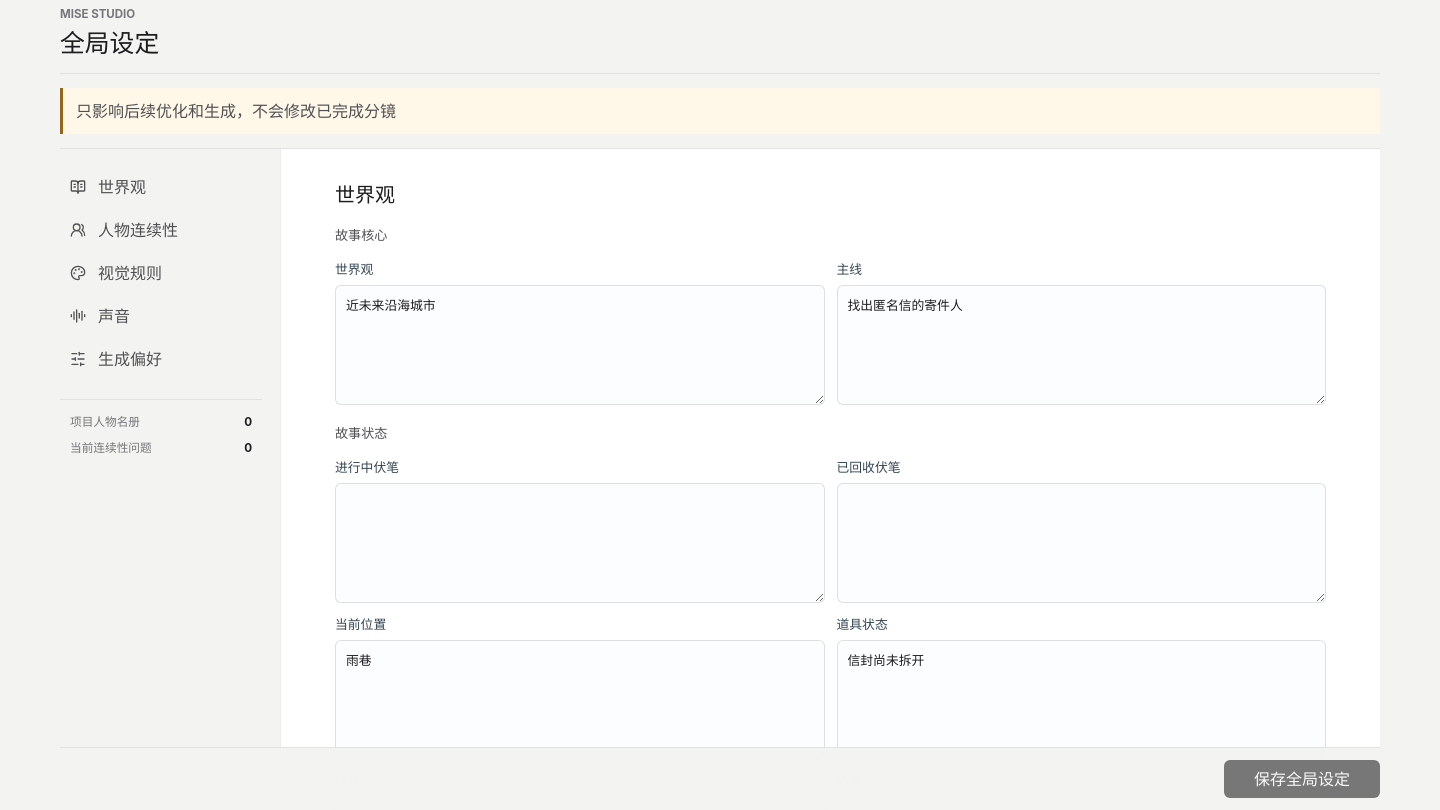
Test case: GlobalSettingsPage › saves only a dirty draft and resets the dirty baseline after success
Expected: the button "保存全局设定" is disabled, [1224,760,1380,798]
Replace the text in the text box labelled "主线" with "新的故事主线" at (1081, 345), box [836,285,1326,405]
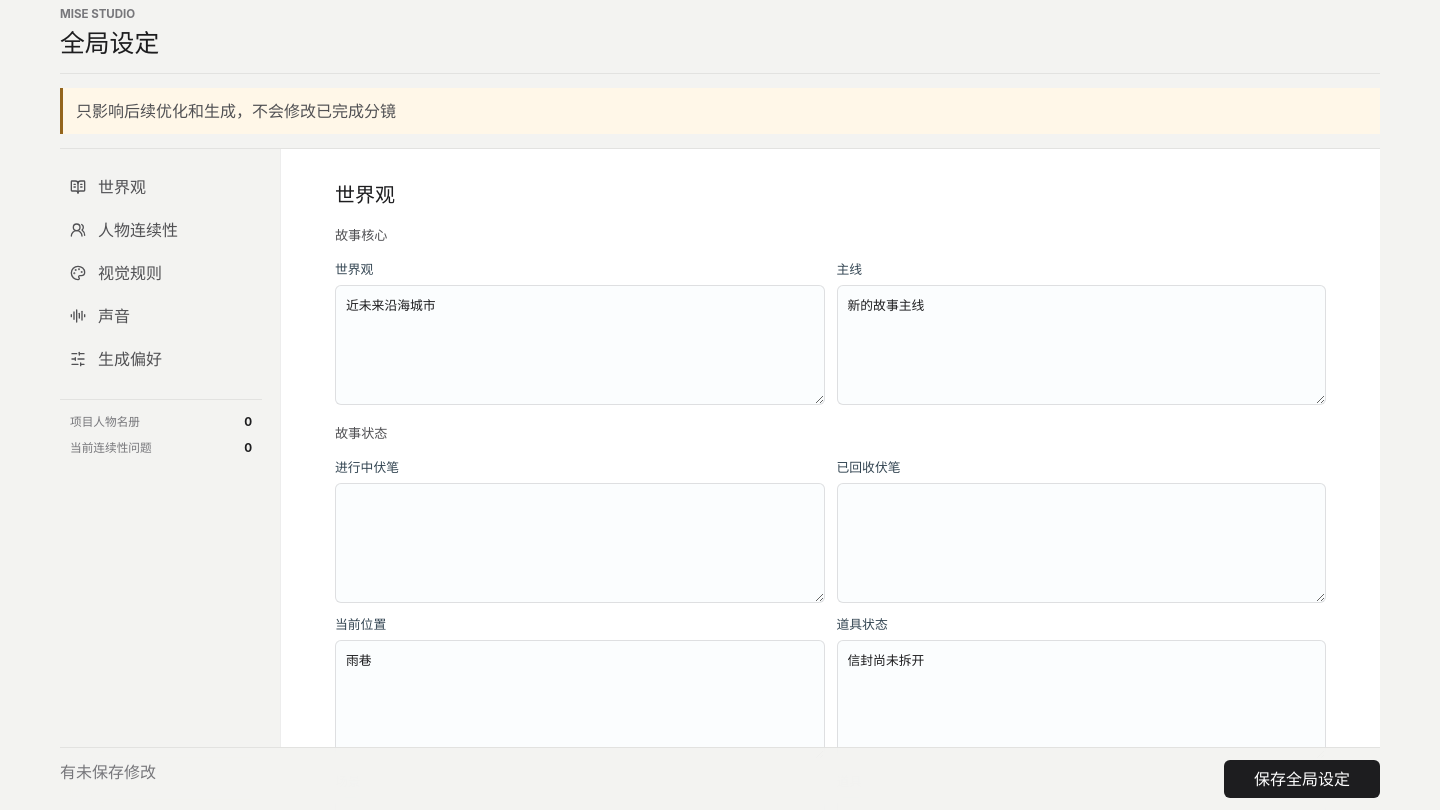
Now the button "保存全局设定" is enabled
Click the button "保存全局设定" at (1302, 779), box [1224,760,1380,798]
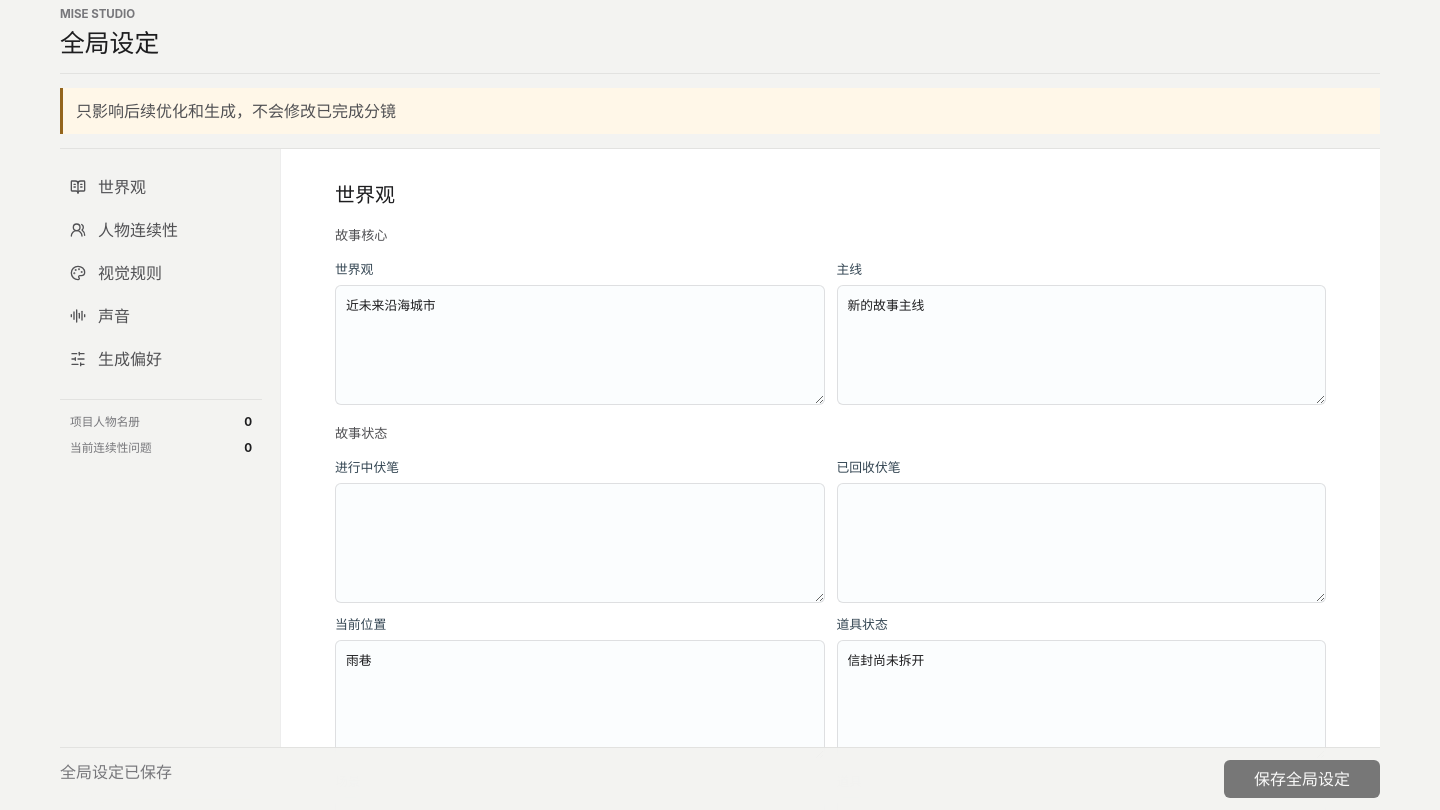
Now the button "保存全局设定" is disabled, box [1224,760,1380,798]
